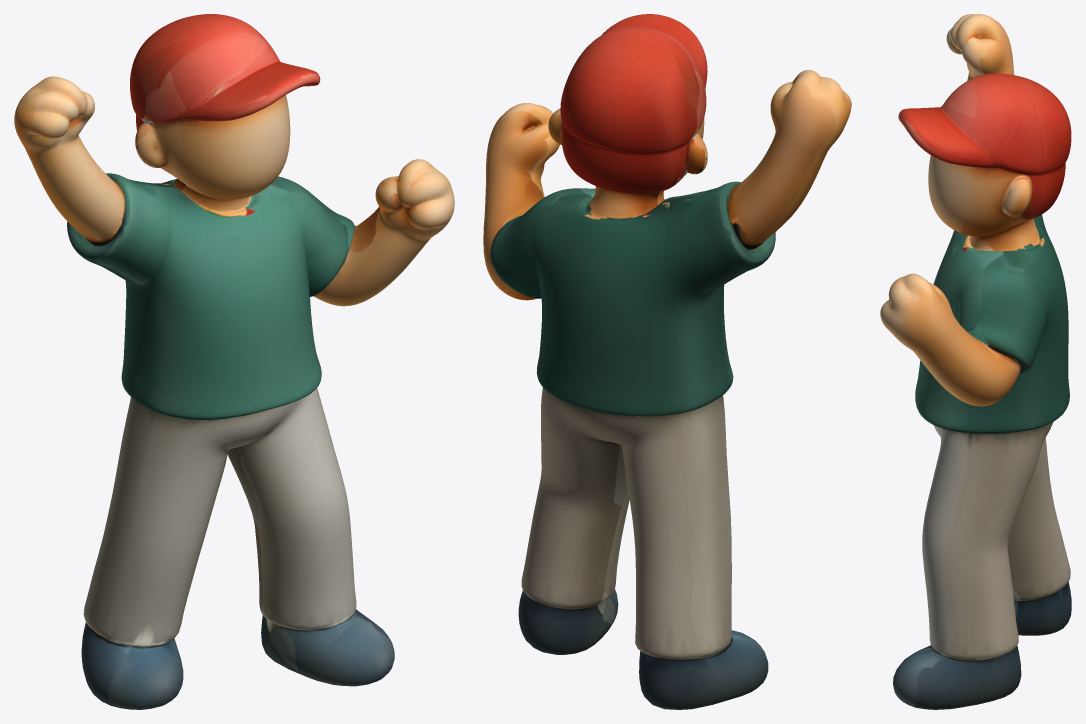
The model's file is Spect_5Mesh.fbx.
3 views of the same model, side by side, from view 1: azimuth 30°, elevation 25°; view 2: azimuth 150°, elevation 25°; view 3: azimuth 270°, elevation 25° (orthographic). The views are drawn at different scales.
Parts seen in each view (by area): view 1: Character; view 2: Character; view 3: Character.
Part boxes in pixels (x1,y1,x2,y2): Character: (14,14,454,709); Character: (483,14,851,709); Character: (880,14,1071,709).
Bounding box in the file's own units: 63.97 × 100 × 30.29.
